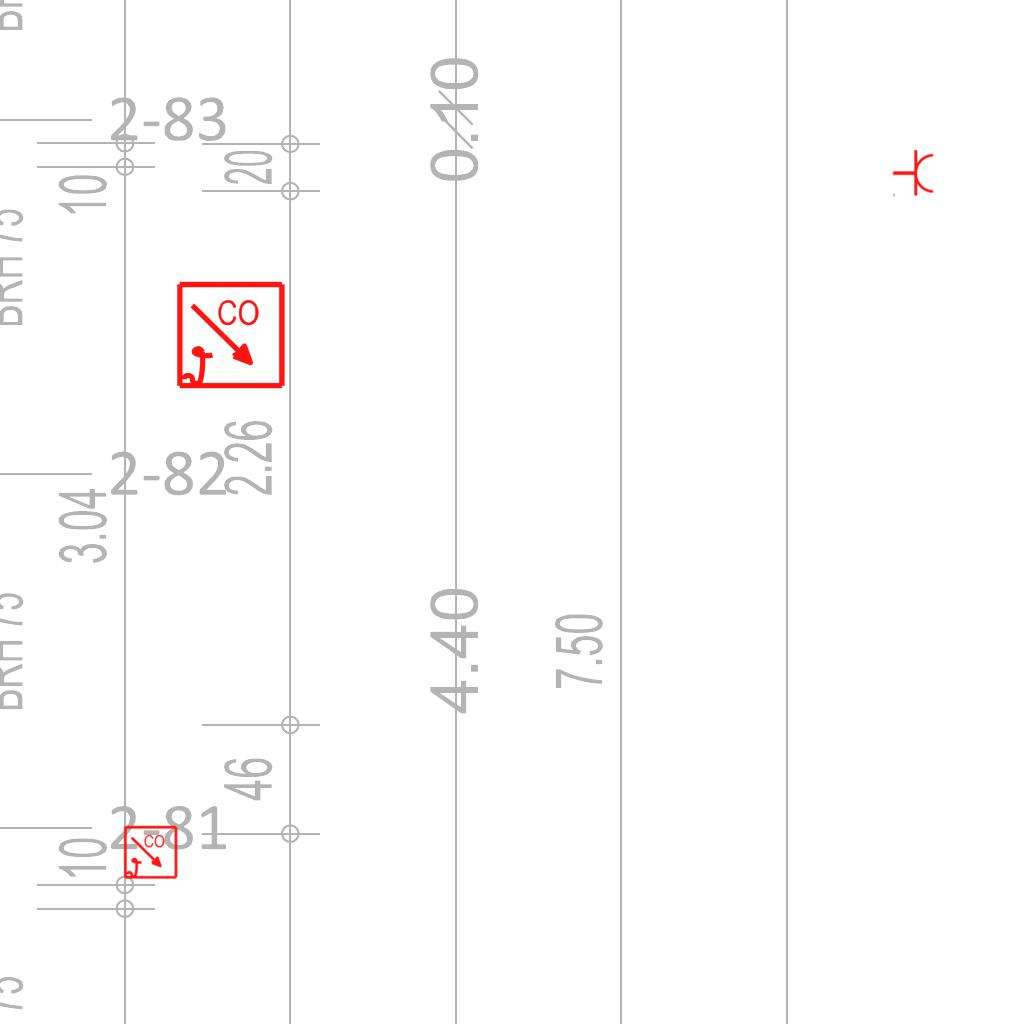ROA_Rauchmelder_optisch_mit_Signalgeber_(Sockelsirene): (175, 280, 288, 393), (123, 825, 179, 881)
Schukosteckdose_einfach: (892, 149, 935, 199)
